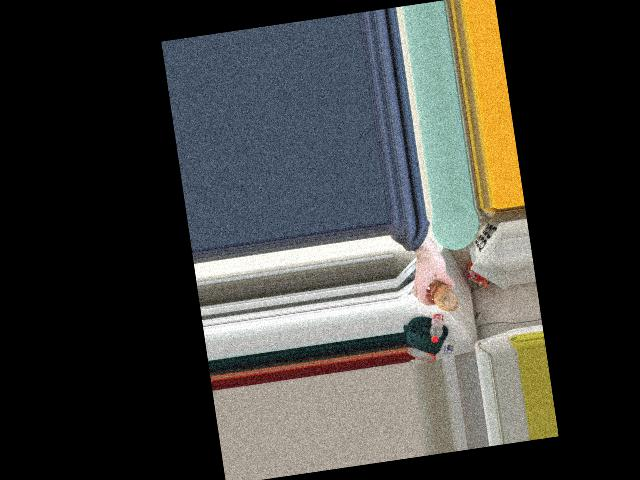sweet_potato: (426, 276, 459, 314)
